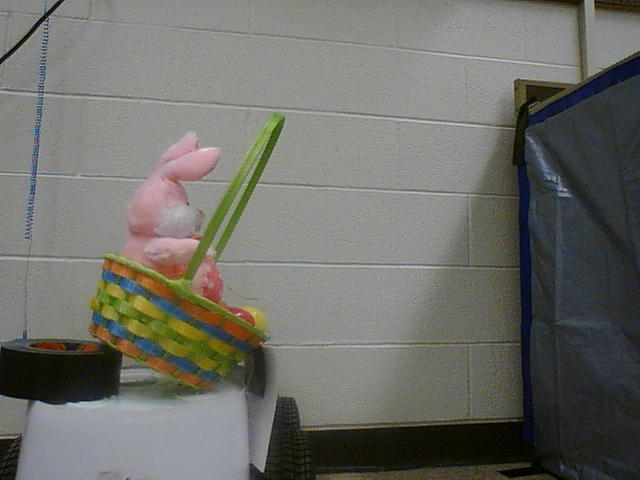bunny: (76, 103, 295, 390)
